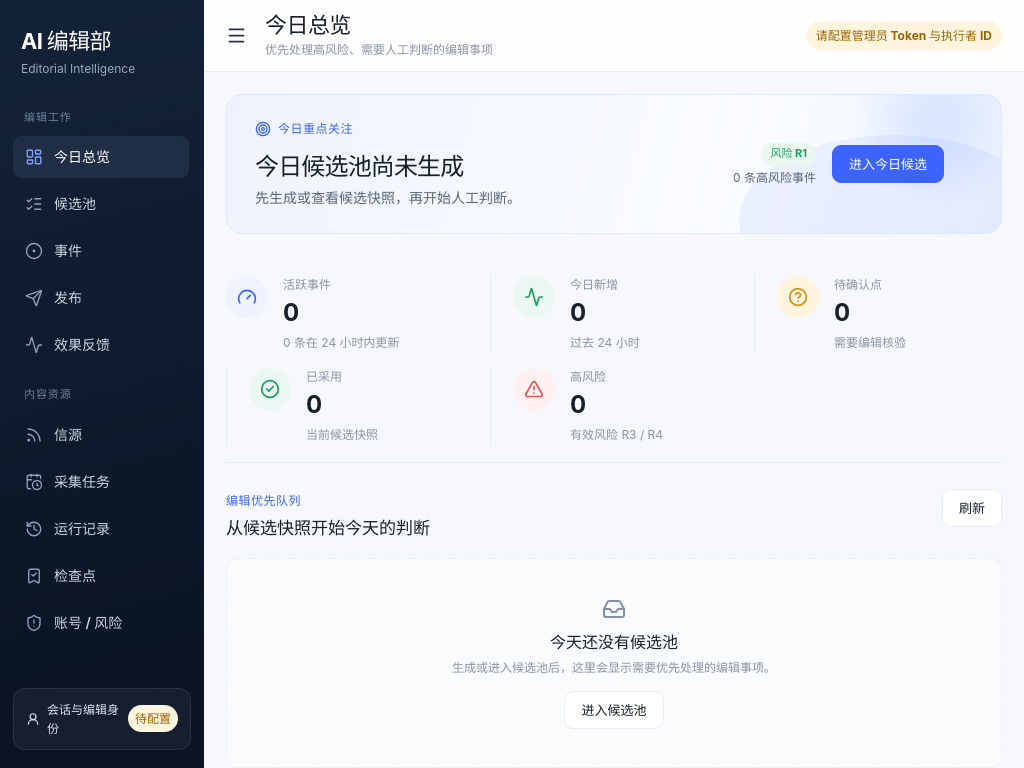
Test: stores session config only in sessionStorage and communicates Actor requirement before writes
expect the text "今日重点关注" is shown: met, box x1=255 y1=119 x2=353 y2=138
Click the text "会话与编辑身份".
click(74, 719)  # box x1=26 y1=700 x2=121 y2=738
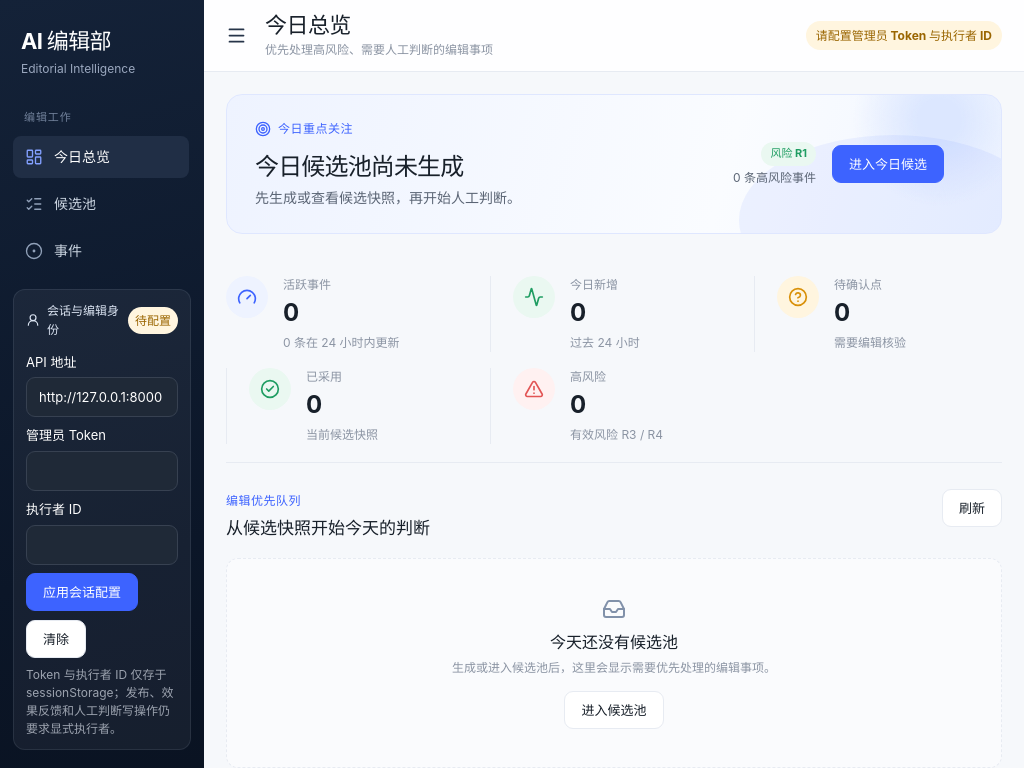
Type "token-only" into the password field labelled "管理员 Token".
click(102, 471); type("token-only")  # box x1=26 y1=451 x2=178 y2=491
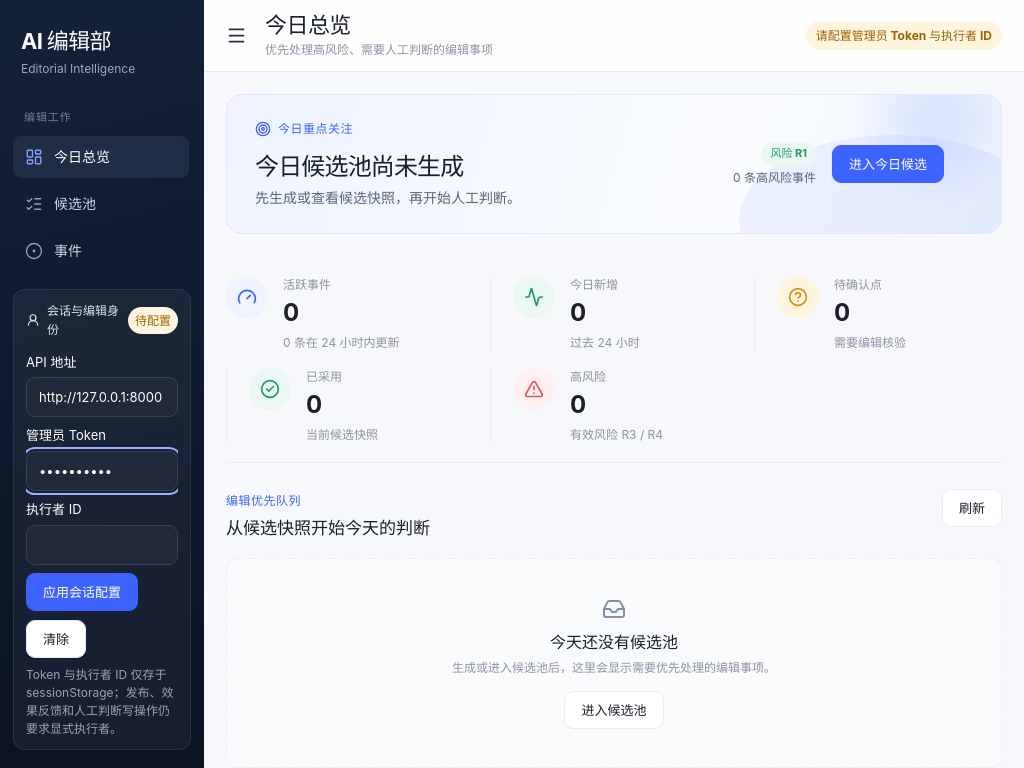
Click the button "应用会话配置".
click(82, 592)  # box x1=26 y1=573 x2=138 y2=611
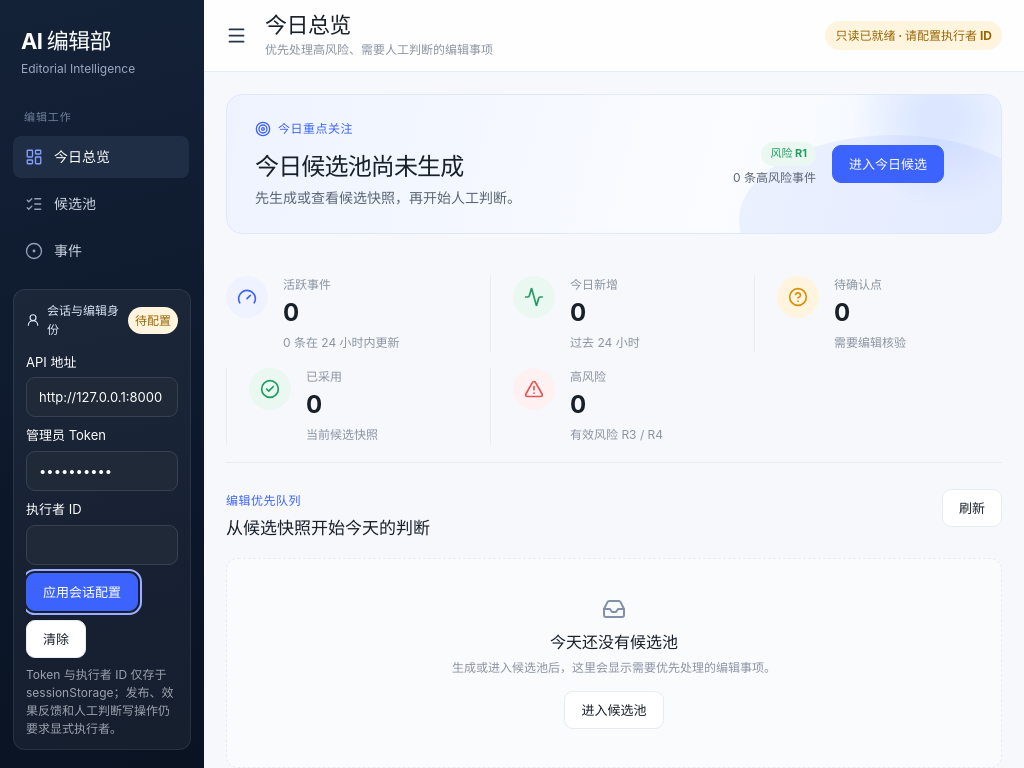
expect the text "只读已就绪 · 请配置执行者 ID" is shown: met, box x1=825 y1=21 x2=1002 y2=50
